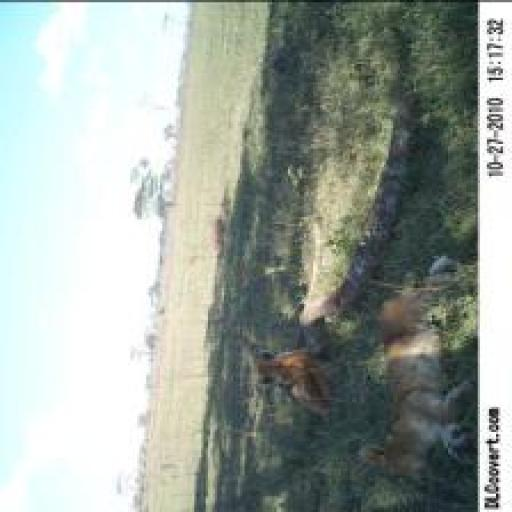lion: (352, 252, 475, 500), (249, 336, 350, 425)
